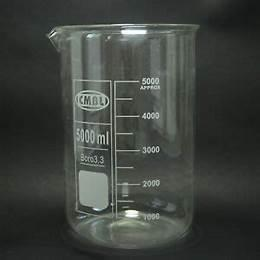Beaker: (42, 21, 206, 246)
